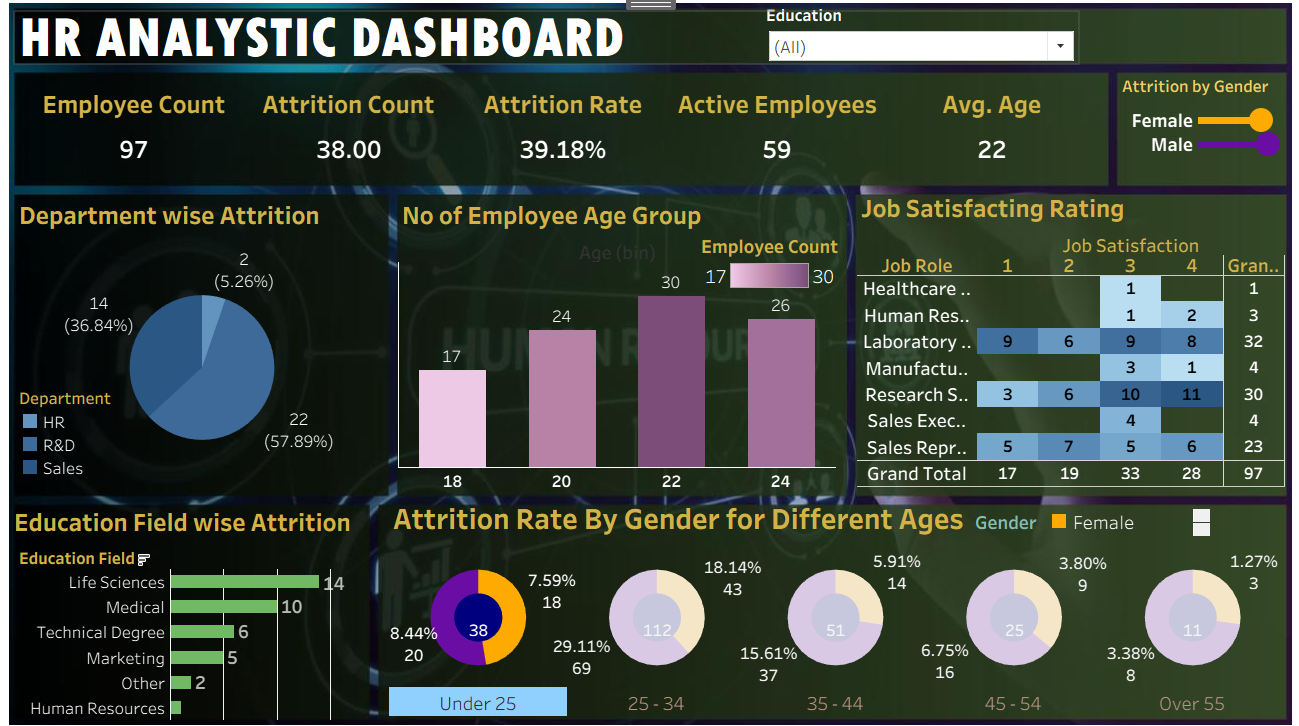

Layout of this report page (visuals, bound fields, positions):
{"tool":"tableau","page":{"name":"HR ANALYSTIC DASHBOARD","canvas":[1000,1000],"units":"permille","ordinal":0},"visuals":[{"type":"image","param":"C:/Users/priya/Downloads/HR background.pptx.jpg","box":[5,10.7,990,978.6]},{"type":"filter","title":"Department wise Attrition","param":"[federated.0rafjyq1b9248m1d97jak1iihg7p].[none:Education:nk]","box":[571.7,17.4,193.9,79.1]},{"type":"text","box":[103.5,28.2,662.7,68.4]},{"type":"worksheet","title":"Attrition by Gender","mark":"Automatic","rows":["Gender"],"cols":["Calculation_523262026850783232","Calculation_523262026850783232"],"box":[791.1,107.2,104.7,148.8]},{"type":"worksheet","title":"KPI","mark":"Automatic","box":[111,119.3,668.3,131.4]},{"type":"worksheet","title":"Job Satisfacting Rating","mark":"Square","rows":["Job Role"],"cols":["Job Satisfaction"],"box":[628.4,262.7,266.8,402.1]},{"type":"worksheet","title":"Department wise Attrition","mark":"Pie","box":[103.5,272.1,233.2,400.8]},{"type":"worksheet","title":"No of Employee Age Group","mark":"Automatic","rows":["Employee Count"],"cols":["Age (bin)"],"box":[342.3,272.1,273.1,400.8]},{"type":"legend","title":"No of Employee Age Group","param":"[federated.0rafjyq1b9248m1d97jak1iihg7p].[sum:Employee Count:qk]","box":[531.2,324.4,86,79.1]},{"type":"legend","title":"Department wise Attrition","param":"[federated.0rafjyq1b9248m1d97jak1iihg7p].[none:Department:nk]","box":[106,530.8,79.8,140.8]},{"type":"worksheet","title":"Attrition Rate By Gender for Different Ages","mark":"Pie","rows":["Calculation_2140617243068436481","Calculation_2140617243068497923"],"cols":["CF_age band"],"box":[336.7,675.6,557.4,296.2]},{"type":"worksheet","title":"Education Field wise Attrition","mark":"Automatic","rows":["Education Field"],"cols":["Calculation_523262026850783232"],"box":[100.4,683.6,219.5,293.6]},{"type":"legend","title":"Attrition Rate By Gender for Different Ages","param":"[federated.0rafjyq1b9248m1d97jak1iihg7p].[none:Gender:nk]","box":[702,694.4,147.8,36.2]}]}

Visuals, with their boxes on the dashboard's canvas, which has no fixed pixel size, in thousandths of its width and height (x1, y1, x2, y2). These are canvas units, not pixel positions in the 1299x726 screenshot, which may show the page scaled, cropped or inside an application window:
image: crop(5, 11, 995, 989)
"Department wise Attrition" filter: crop(572, 17, 766, 96)
text: crop(104, 28, 766, 97)
"Attrition by Gender" worksheet: crop(791, 107, 896, 256)
"KPI" worksheet: crop(111, 119, 779, 251)
"Job Satisfacting Rating" worksheet (Square marks): crop(628, 263, 895, 665)
"Department wise Attrition" worksheet (Pie marks): crop(104, 272, 337, 673)
"No of Employee Age Group" worksheet: crop(342, 272, 615, 673)
"No of Employee Age Group" legend: crop(531, 324, 617, 404)
"Department wise Attrition" legend: crop(106, 531, 186, 672)
"Attrition Rate By Gender for Different Ages" worksheet (Pie marks): crop(337, 676, 894, 972)
"Education Field wise Attrition" worksheet: crop(100, 684, 320, 977)
"Attrition Rate By Gender for Different Ages" legend: crop(702, 694, 850, 731)
